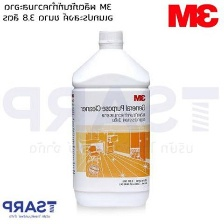cleaning_solution: (68, 26, 154, 210)
